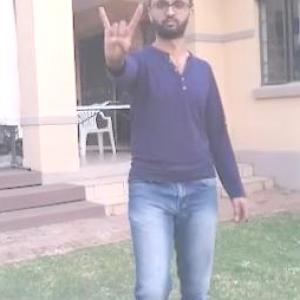takeoff-hand: (87, 0, 148, 72)
